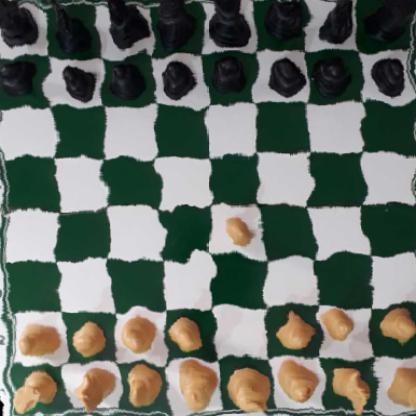black-bishop: (102, 0, 151, 48), (262, 0, 303, 44)
black-king: (202, 0, 252, 49)
black-knight: (49, 0, 92, 54), (312, 0, 356, 47)
black-pawn: (0, 57, 43, 99), (309, 54, 351, 95), (207, 56, 250, 96), (158, 58, 201, 97), (369, 57, 411, 95), (57, 62, 96, 101), (105, 57, 144, 96), (267, 57, 305, 95)
black-queen: (153, 0, 198, 50)
black-rook: (362, 0, 416, 43), (0, 0, 44, 50)
white-bishop: (121, 365, 164, 410), (276, 358, 315, 405)
white-king: (227, 361, 272, 416)
white-knight: (328, 363, 366, 416), (76, 366, 114, 416)
white-pawn: (15, 319, 63, 356), (216, 212, 260, 252), (120, 317, 158, 355), (73, 320, 112, 355), (377, 309, 416, 343), (170, 316, 207, 351), (275, 314, 311, 349), (324, 304, 359, 340)
white-queen: (174, 357, 220, 416)
white-rook: (8, 368, 66, 412), (388, 360, 416, 414)
